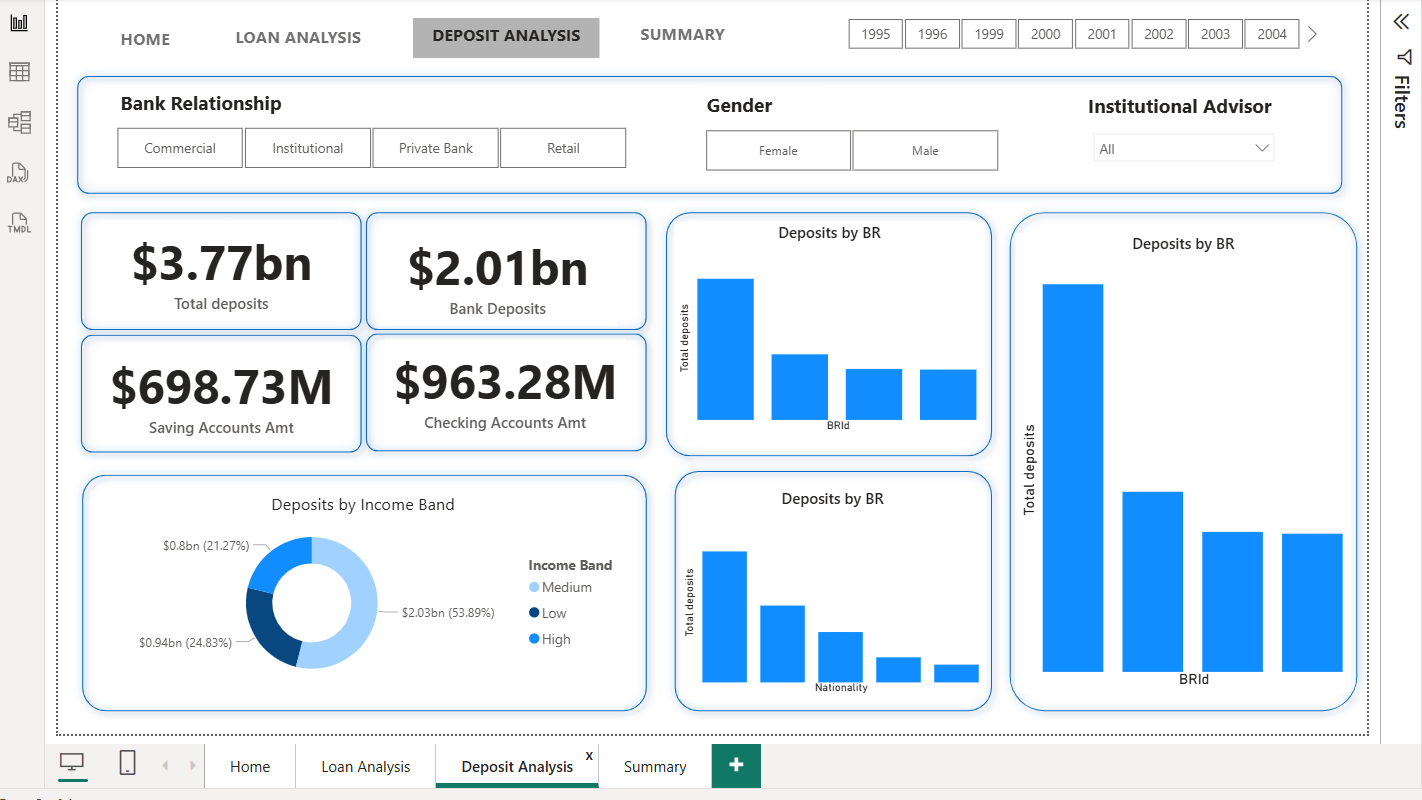

Layout of this report page (visuals, bound fields, positions):
{"tool":"powerbi","page":{"name":"Deposit Analysis","canvas":[1280,720],"ordinal":2},"visuals":[{"type":"shape","box":[292.6,200,292.6,133.3],"z":0},{"type":"shape","box":[9.9,66.7,1255.6,133.3],"z":1000},{"type":"shape","box":[13.6,321,292.6,133.3],"z":2000},{"type":"shape","box":[14.8,456.8,570.4,249.4],"z":3000},{"type":"shape","box":[292.6,319.8,292.6,133.3],"z":4000},{"type":"shape","box":[13.6,200,292.6,133.3],"z":5000},{"type":"shape","box":[585.2,200,337,256.8],"z":6000},{"type":"shape","box":[922.2,200,358,506.2],"z":7000},{"type":"shape","box":[593.8,453.1,328.4,253.1],"z":8000},{"type":"card","fields":{"Values":["measures (2).Total deposits"]},"box":[43.2,217.3,234.6,98.8],"z":9000},{"type":"card","fields":{"Values":["Sum(banking_case customer.Saving Accounts)"]},"box":[43.2,338.3,234.6,98.8],"z":10000},{"type":"card","fields":{"Values":["Sum(banking_case customer.Bank Deposits)"]},"box":[313.6,222.2,234.6,98.8],"z":11000},{"type":"card","fields":{"Values":["Sum(banking_case customer.Checking Accounts)"]},"box":[321,333.3,234.6,98.8],"z":12000},{"type":"donutChart","title":"Deposits by Income Band","fields":{"Category":["banking_case customer.Income Band"],"Y":["measures (2).Total deposits"]},"box":[32.1,482.7,533.3,196.3],"z":13000},{"type":"clusteredColumnChart","title":"Deposits by BR","fields":{"Category":["banking_case customer.BRId"],"Y":["measures (2).Total deposits"]},"box":[602.5,218.5,303.7,209.9],"z":14000},{"type":"clusteredColumnChart","title":"Deposits  by BR","fields":{"Y":["measures (2).Total deposits"],"Category":["banking_case customer.Nationality"]},"box":[607.4,479,300,206.2],"z":15000},{"type":"clusteredColumnChart","title":"Deposits  by BR","fields":{"Category":["banking_case customer.BRId"],"Y":["measures (2).Total deposits"]},"box":[937,229.6,328.4,449.4],"z":16000},{"type":"slicer","fields":{"Values":["banking_case customer.BRId"]},"box":[32.1,119.8,548.1,53.1],"z":17000},{"type":"slicer","fields":{"Values":["banking_case customer.GenderId"]},"box":[607.4,122.2,335.8,53.1],"z":18000},{"type":"slicer","fields":{"Values":["banking_case customer.IAId"]},"box":[992.6,112.3,176.5,45.7],"z":19000},{"type":"slicer","fields":{"Values":["banking_case customer.IAId"]},"box":[1002.5,122.2,197.5,50.6],"z":20000},{"type":"textbox","box":[56.8,84,221,45.7],"z":21000},{"type":"textbox","box":[629.8,86.8,117.4,35.5],"z":22000},{"type":"textbox","box":[1002.5,87.7,209.9,42],"z":23000},{"type":"slicer","fields":{"Values":["banking_case customer.Year"]},"box":[746.9,13.6,491.4,43.2],"z":24000},{"type":"textbox","box":[346.9,19.8,182.7,39.5],"z":25000},{"type":"textbox","box":[56.8,23.5,101.2,43.2],"z":26000},{"type":"textbox","box":[169.1,22.2,151.9,43.2],"z":27000},{"type":"textbox","box":[565.4,18.5,129.6,38.3],"z":28000},{"type":"actionButton","box":[169.1,17.3,156.8,44.4],"z":29000},{"type":"actionButton","box":[556.8,18.5,145.7,39.5],"z":30000},{"type":"actionButton","box":[53.1,23.5,107.4,42],"z":31000}]}

Visuals, with their boxes on the page's 1280x720 design canvas (x1, y1, x2, y2). These are canvas units, not pixel positions in the 1422x800 screenshot, which may show the page scaled, cropped or inside an application window:
shape: [x1=293, y1=200, x2=585, y2=333]
shape: [x1=10, y1=67, x2=1266, y2=200]
shape: [x1=14, y1=321, x2=306, y2=454]
shape: [x1=15, y1=457, x2=585, y2=706]
shape: [x1=293, y1=320, x2=585, y2=453]
shape: [x1=14, y1=200, x2=306, y2=333]
shape: [x1=585, y1=200, x2=922, y2=457]
shape: [x1=922, y1=200, x2=1280, y2=706]
shape: [x1=594, y1=453, x2=922, y2=706]
card - measures (2).Total deposits: [x1=43, y1=217, x2=278, y2=316]
card - Sum(banking_case customer.Saving Accounts): [x1=43, y1=338, x2=278, y2=437]
card - Sum(banking_case customer.Bank Deposits): [x1=314, y1=222, x2=548, y2=321]
card - Sum(banking_case customer.Checking Accounts): [x1=321, y1=333, x2=556, y2=432]
"Deposits by Income Band" donutChart: [x1=32, y1=483, x2=565, y2=679]
"Deposits by BR" clusteredColumnChart: [x1=602, y1=218, x2=906, y2=428]
"Deposits  by BR" clusteredColumnChart: [x1=607, y1=479, x2=907, y2=685]
"Deposits  by BR" clusteredColumnChart: [x1=937, y1=230, x2=1265, y2=679]
slicer - banking_case customer.BRId: [x1=32, y1=120, x2=580, y2=173]
slicer - banking_case customer.GenderId: [x1=607, y1=122, x2=943, y2=175]
slicer - banking_case customer.IAId: [x1=993, y1=112, x2=1169, y2=158]
slicer - banking_case customer.IAId: [x1=1002, y1=122, x2=1200, y2=173]
textbox: [x1=57, y1=84, x2=278, y2=130]
textbox: [x1=630, y1=87, x2=747, y2=122]
textbox: [x1=1002, y1=88, x2=1212, y2=130]
slicer - banking_case customer.Year: [x1=747, y1=14, x2=1238, y2=57]
textbox: [x1=347, y1=20, x2=530, y2=59]
textbox: [x1=57, y1=24, x2=158, y2=67]
textbox: [x1=169, y1=22, x2=321, y2=65]
textbox: [x1=565, y1=18, x2=695, y2=57]
actionButton: [x1=169, y1=17, x2=326, y2=62]
actionButton: [x1=557, y1=18, x2=702, y2=58]
actionButton: [x1=53, y1=24, x2=160, y2=66]
